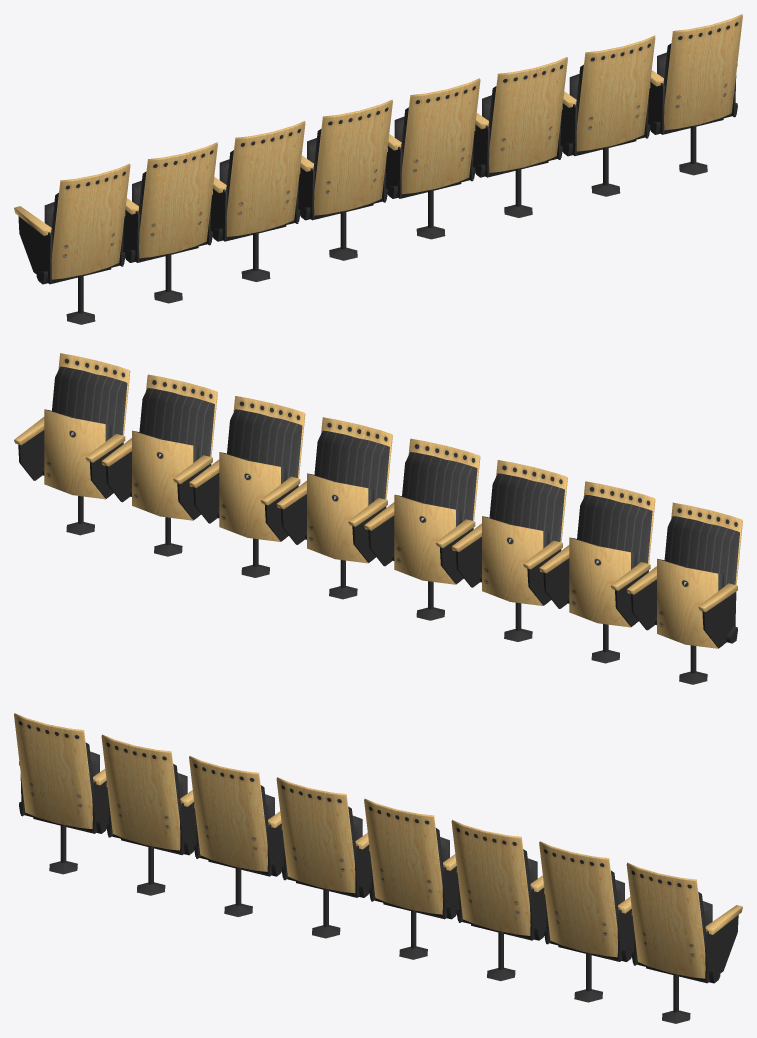
Rendered from chair_8.FBX.
3 renders of one model, top to bottom at view 1: azimuth 30°, elevation 25°; view 2: azimuth 150°, elevation 25°; view 3: azimuth 330°, elevation 25°, orthographic.
Visible parts, largest first — view 1: chair_sp; view 2: chair_sp; view 3: chair_sp.
Part boxes in pixels (box(x1,y1,x2,y2)): chair_sp: box(14, 14, 742, 324); chair_sp: box(14, 353, 742, 684); chair_sp: box(14, 713, 742, 1023).
Size of the model in its own units: 513 by 110 by 57.68.
